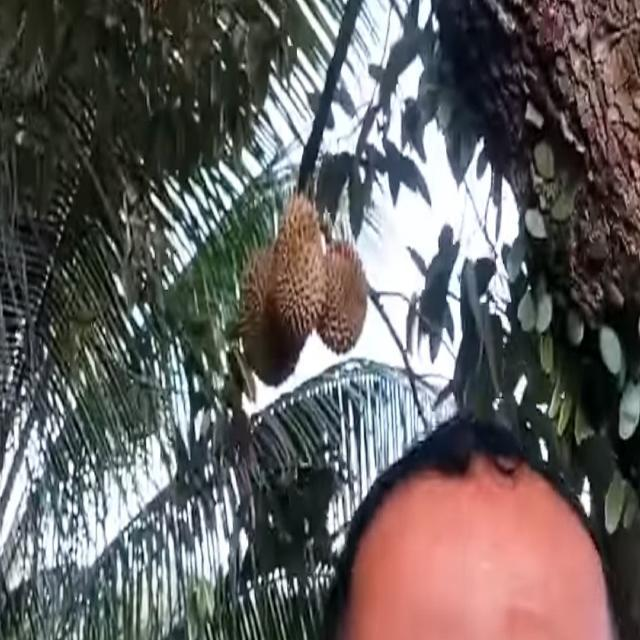mature: (237, 229, 302, 385), (270, 197, 326, 334), (318, 241, 368, 353)
